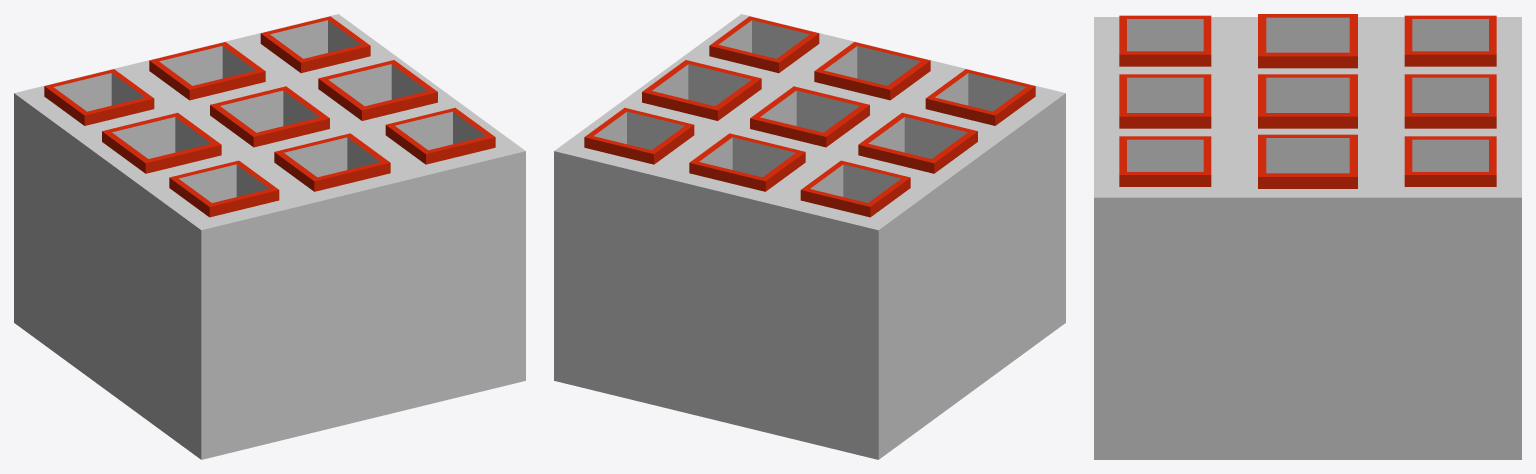
Rendered from 9_Game 1.fbx.
3 views of the same model, side by side, from view 1: azimuth 30°, elevation 25°; view 2: azimuth 150°, elevation 25°; view 3: azimuth 270°, elevation 25° (orthographic). The views are drawn at different scales.
Visible parts, largest first — view 1: Plane; view 2: Plane; view 3: Plane.
Part boxes in pixels (x1=…): Plane: x1=14, y1=14, x2=525, y2=459; Plane: x1=554, y1=14, x2=1065, y2=459; Plane: x1=1094, y1=14, x2=1521, y2=459.
Bounding box in the file's own units: 200 × 141 × 200.
